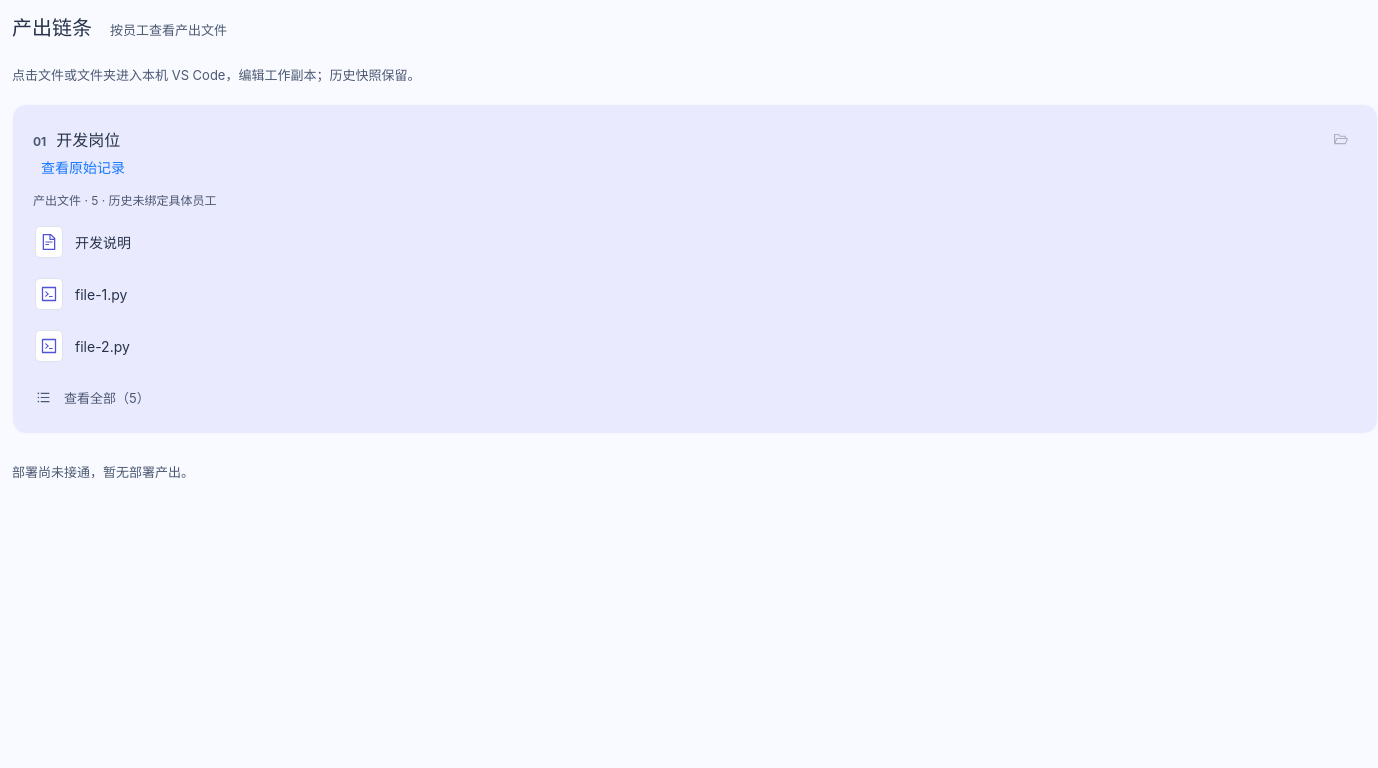
Test: 员工产出链 › 附件列表默认三项，查看全部展开剩余文件并可收起
This screenshot has width=1378, height=768.
Expected: the text "file-4.py" is not shown
Click the button "查看全部（5）". click: (93, 398)
box: [33,380,154,415]
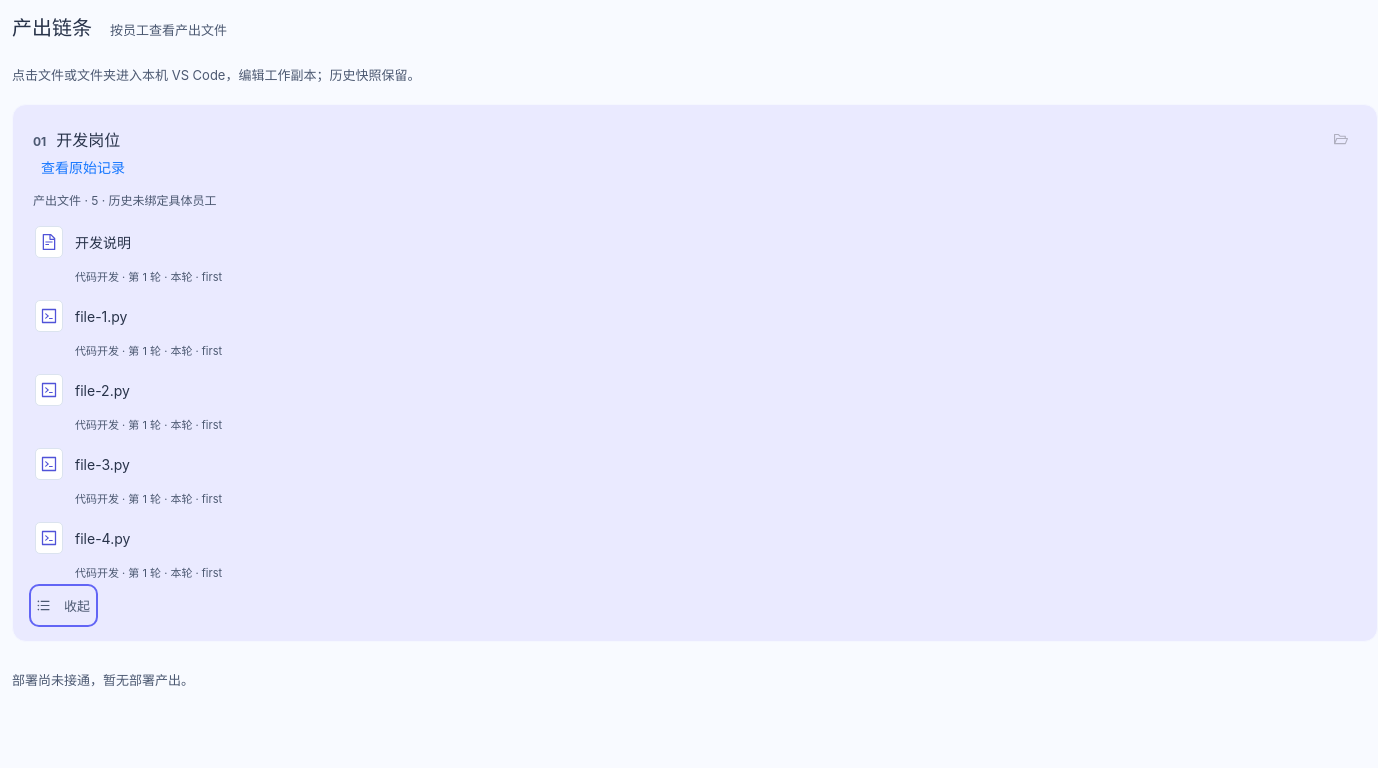
Now the text "file-4.py" is shown, box [75,530,130,546]
Click the button "收起". click: (64, 606)
box: [33,588,94,623]
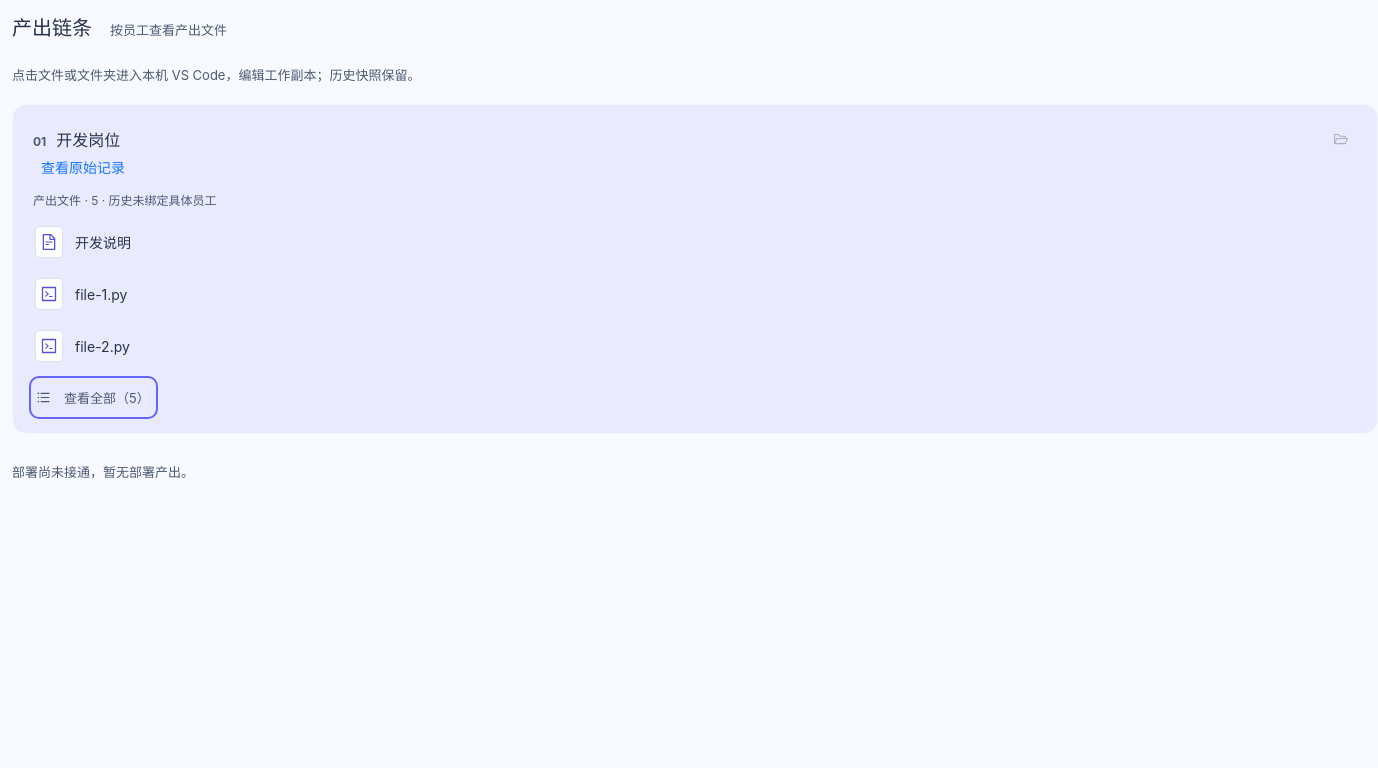
Now the button "file-4.py" is gone
